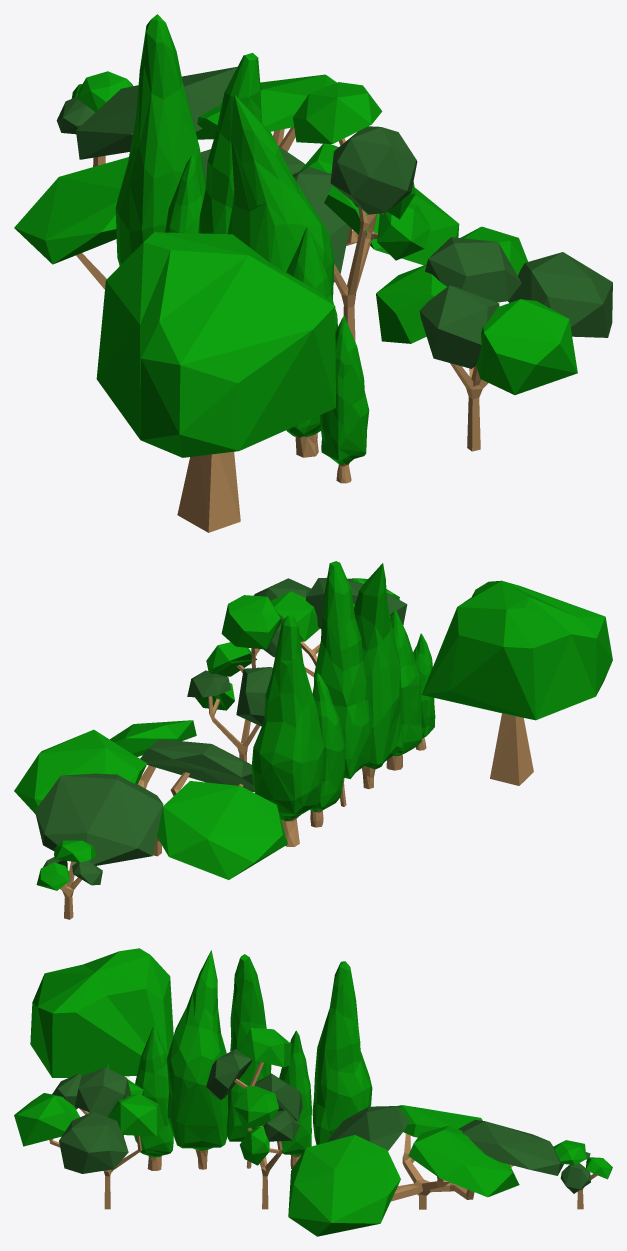
File: Trees.fbx
3 views of the same model, one above another, from view 1: azimuth 30°, elevation 25°; view 2: azimuth 150°, elevation 25°; view 3: azimuth 270°, elevation 25° (orthographic). The views are drawn at different scales.
Visible parts, largest first — view 1: Tree_Short_1, Tree Deciduous 1, Tree Deciduous 3, Tree Deciduous 2, Tree_Tall_6, Tree_Tall_3, Tree_Tall_1, Tree_Tall_4, Tree_Tall_2, Tree Deciduous 4, Tree_Tall_5; view 2: Tree Deciduous 3, Tree_Short_1, Tree_Tall_6, Tree Deciduous 2, Tree_Tall_4, Tree_Tall_3, Tree Deciduous 1, Tree_Tall_5, Tree_Tall_2, Tree Deciduous 4, Tree_Tall_1; view 3: Tree Deciduous 3, Tree_Short_1, Tree Deciduous 1, Tree_Tall_3, Tree Deciduous 2, Tree_Tall_6, Tree_Tall_4, Tree_Tall_2, Tree_Tall_5, Tree Deciduous 4.
Boxes of the visible parts, <box> form: Tree_Short_1: <box>96,232,335,532</box>; Tree Deciduous 1: <box>376,226,612,451</box>; Tree Deciduous 3: <box>14,66,459,289</box>; Tree Deciduous 2: <box>292,82,430,341</box>; Tree_Tall_6: <box>115,14,205,265</box>; Tree_Tall_3: <box>227,95,334,299</box>; Tree_Tall_1: <box>320,315,369,483</box>; Tree_Tall_4: <box>198,53,261,234</box>; Tree_Tall_2: <box>286,227,337,457</box>; Tree Deciduous 4: <box>56,71,132,166</box>; Tree_Tall_5: <box>164,154,203,233</box>; Tree Deciduous 3: <box>14,720,287,879</box>; Tree_Short_1: <box>421,580,612,785</box>; Tree_Tall_6: <box>251,615,323,846</box>; Tree Deciduous 2: <box>187,595,284,761</box>; Tree_Tall_4: <box>314,561,371,806</box>; Tree_Tall_3: <box>354,563,402,788</box>; Tree Deciduous 1: <box>254,577,407,677</box>; Tree_Tall_5: <box>310,673,344,827</box>; Tree_Tall_2: <box>386,609,422,770</box>; Tree Deciduous 4: <box>36,840,102,919</box>; Tree_Tall_1: <box>413,633,435,750</box>; Tree Deciduous 3: <box>288,1105,563,1236</box>; Tree_Short_1: <box>30,948,173,1136</box>; Tree Deciduous 1: <box>14,1067,164,1209</box>; Tree_Tall_3: <box>166,950,228,1169</box>; Tree Deciduous 2: <box>206,1028,302,1209</box>; Tree_Tall_6: <box>312,961,372,1144</box>; Tree_Tall_4: <box>227,954,271,1168</box>; Tree_Tall_2: <box>134,1025,173,1170</box>; Tree_Tall_5: <box>279,1030,311,1168</box>; Tree Deciduous 4: <box>553,1140,612,1209</box>.
Bounding box in the file's own units: 24.03 × 15.49 × 38.01.
